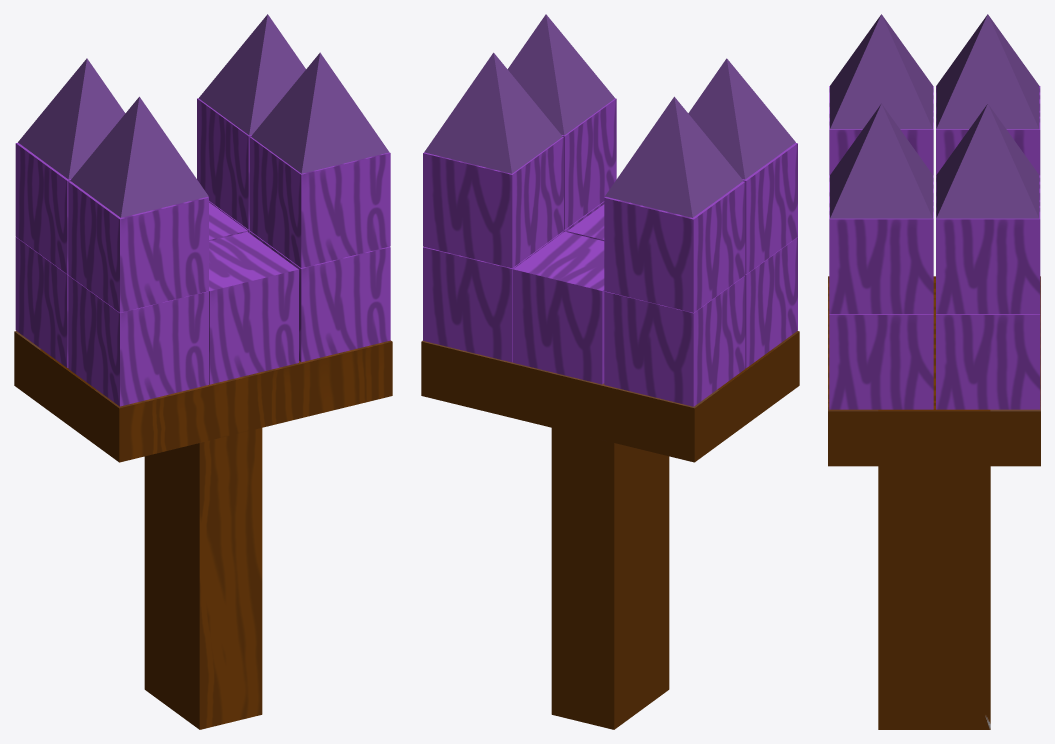
Rendered from Level1-3.fbx.
The picture shows the model from 3 angles, left to right: view 1: azimuth 30°, elevation 25°; view 2: azimuth 150°, elevation 25°; view 3: azimuth 270°, elevation 25°; orthographic projection.
Visible parts, largest first — view 1: 2x3Platform1, Cube.007, Cube.009, Cube.001, Cube.002, Cube.003, Cube.025, Cube.015, Cube.020, Cube.030, Cube.010, Cube.004 (+2 smaller); view 2: 2x3Platform1, Cube.010, Cube.008, Cube.004, Cube.005, Cube.020, Cube.030, Cube.006, Cube.025, Cube.015, Cube.009, Cube.001 (+2 smaller); view 3: 2x3Platform1, Cube.008, Cube.007, Cube.003, Cube.006, Cube.020, Cube.015, Cube.030, Cube.025, Cube.010, Cube.009.
Boxes of the visible parts, x1,y1,x2,y2 form: 2x3Platform1: (14, 331, 392, 729); Cube.007: (249, 137, 390, 267); Cube.009: (68, 181, 208, 312); Cube.001: (68, 275, 208, 406); Cube.002: (209, 232, 298, 384); Cube.003: (249, 231, 390, 362); Cube.025: (70, 96, 208, 217); Cube.015: (251, 52, 389, 173); Cube.020: (198, 14, 305, 135); Cube.030: (18, 58, 125, 179); Cube.010: (15, 142, 71, 274); Cube.004: (15, 237, 68, 367); 2x3Platform1: (421, 331, 799, 729); Cube.010: (604, 181, 745, 312); Cube.008: (423, 137, 563, 268); Cube.004: (604, 276, 745, 406); Cube.005: (513, 231, 604, 384); Cube.020: (424, 52, 562, 173); Cube.030: (605, 96, 743, 217); Cube.006: (423, 231, 563, 362); Cube.025: (688, 58, 795, 179); Cube.015: (507, 14, 614, 135); Cube.009: (742, 143, 797, 274); Cube.001: (745, 237, 797, 368); 2x3Platform1: (828, 276, 1040, 729); Cube.008: (936, 175, 1040, 314); Cube.007: (829, 175, 933, 314); Cube.003: (829, 314, 933, 409); Cube.006: (936, 314, 1040, 409); Cube.020: (936, 103, 1039, 218); Cube.015: (830, 103, 932, 218); Cube.030: (936, 14, 1039, 129); Cube.025: (830, 14, 932, 129); Cube.010: (936, 86, 1040, 175); Cube.009: (829, 86, 933, 175).
Bounding box in the file's own units: 809 × 1830 × 538.
